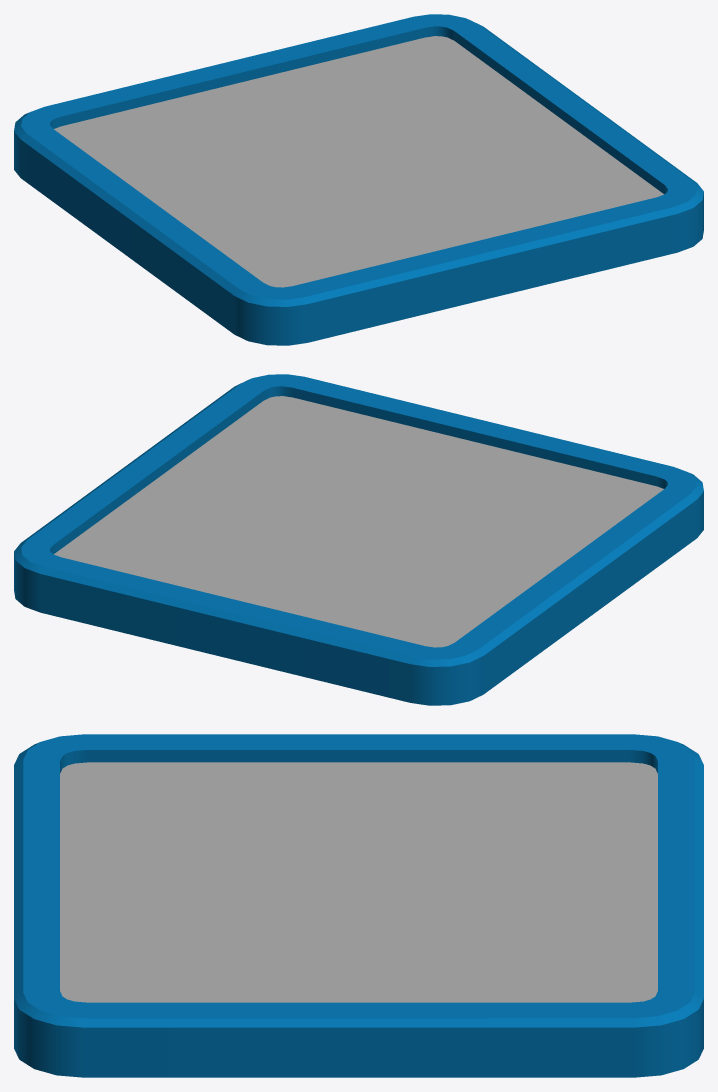
The model's file is SM_JumpPad.fbx.
3 renders of one model, top to bottom at view 1: azimuth 30°, elevation 25°; view 2: azimuth 150°, elevation 25°; view 3: azimuth 270°, elevation 25°, orthographic. The views are drawn at different scales.
Visible parts, largest first — view 1: JumpPad; view 2: JumpPad; view 3: JumpPad.
Boxes of the visible parts, <box> form: JumpPad: <box>14,14,703,345</box>; JumpPad: <box>14,374,703,705</box>; JumpPad: <box>14,734,703,1077</box>.
Size of the model in its own units: 225 by 20 by 225.
